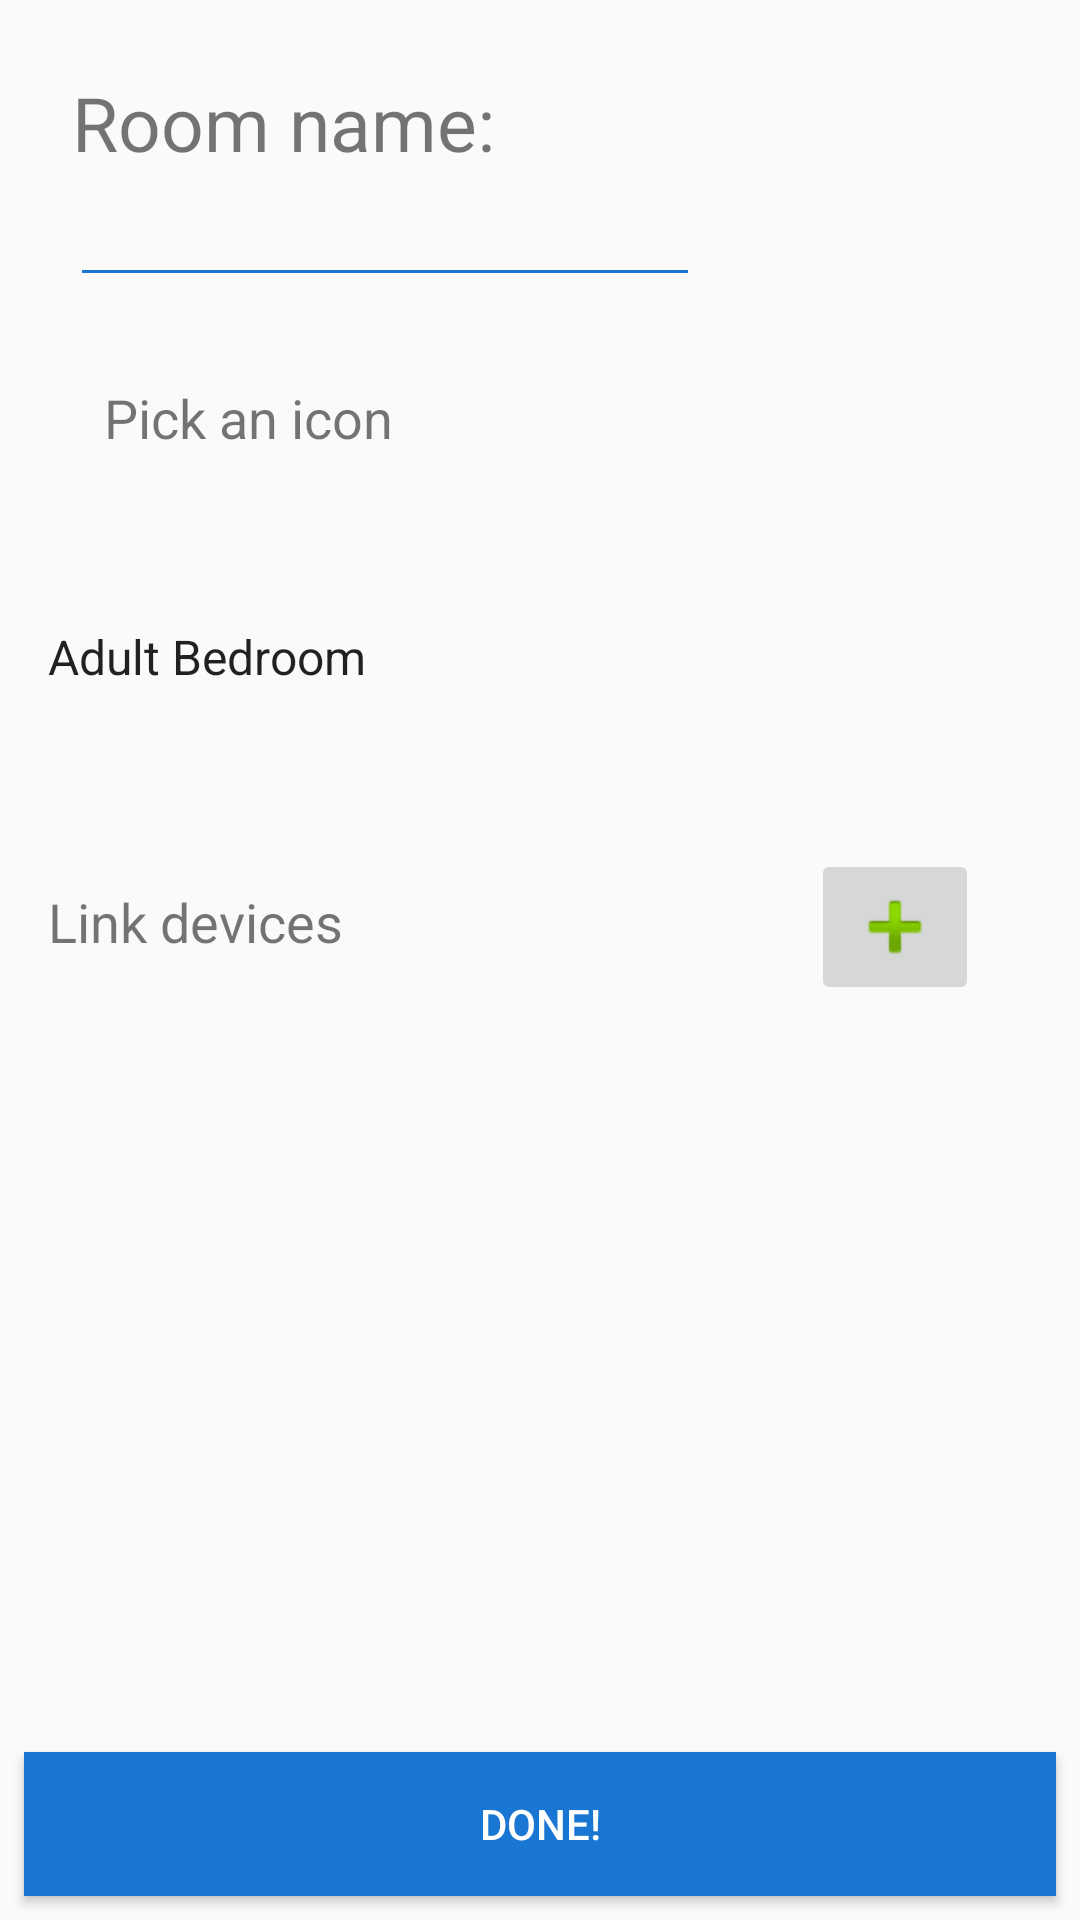

Where to tap for icons on this 1080×1920 app screen, as point (x, y):
add: point (895, 927)
